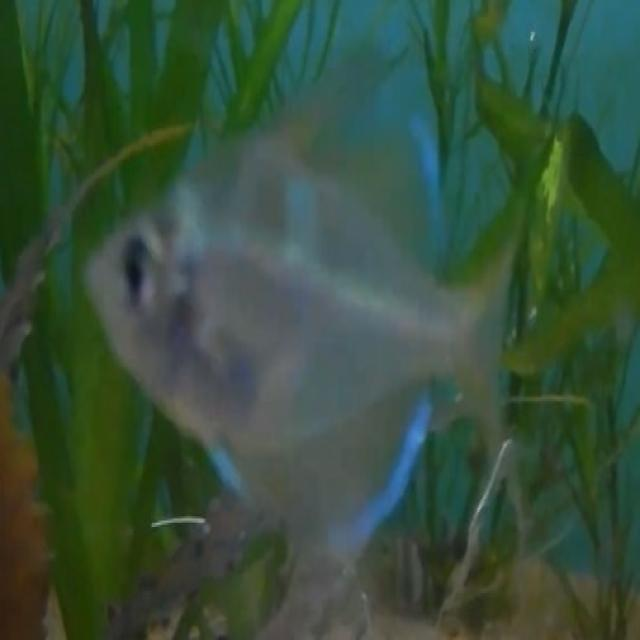Glass-Perchlet: (46, 82, 591, 532)
